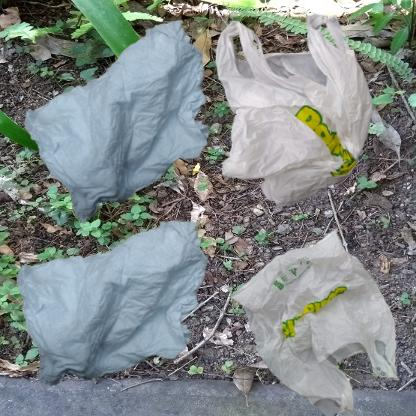bolsa: (213, 213, 416, 416), (213, 10, 379, 213)
papel: (10, 10, 293, 265), (10, 213, 239, 401)
